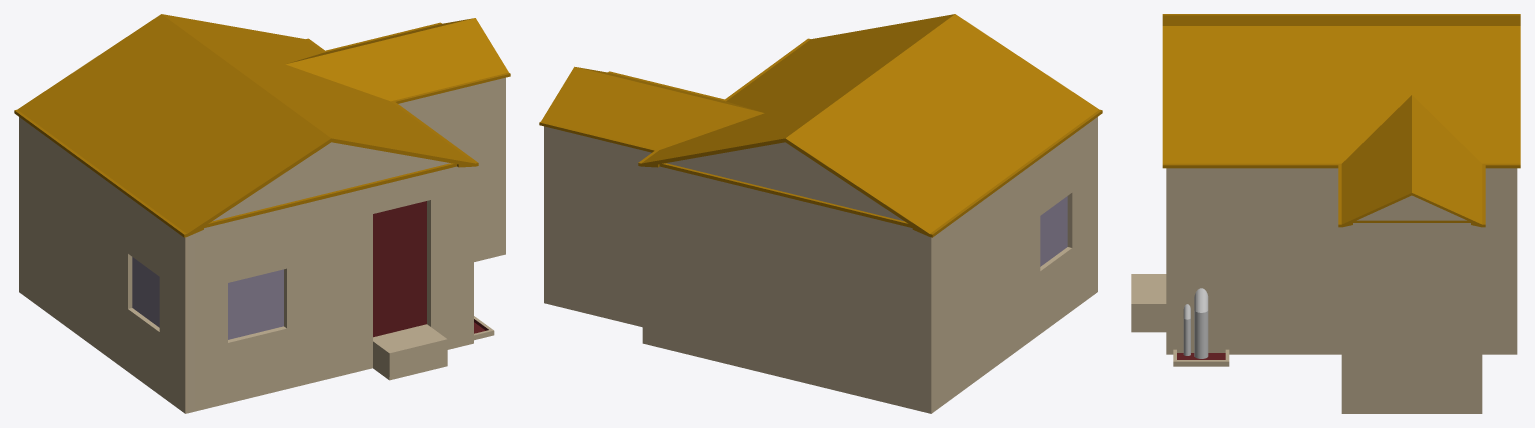
Rendered from House3.fbx.
3 views of the same model, side by side, from view 1: azimuth 30°, elevation 25°; view 2: azimuth 150°, elevation 25°; view 3: azimuth 270°, elevation 25° (orthographic). The views are drawn at different scales.
Visible parts, largest first — view 1: Cube.019, Cube.021; view 2: Cube.019, Cube.021; view 3: Cube.019, Cube.021, Cylinder.024, Cube.020, Cylinder.025.
Boxes of the visible parts, box(x1,y1,x2,y2) form: Cube.019: box(14, 14, 478, 413); Cube.021: box(286, 18, 510, 261); Cube.019: box(638, 14, 1102, 413); Cube.021: box(539, 66, 764, 327); Cube.019: box(1131, 14, 1520, 354); Cube.021: box(1338, 95, 1485, 413); Cylinder.024: box(1194, 288, 1208, 358); Cube.020: box(1173, 349, 1229, 366); Cylinder.025: box(1183, 304, 1190, 355).
Bounding box in the file's own units: 1420 × 800 × 1110.
